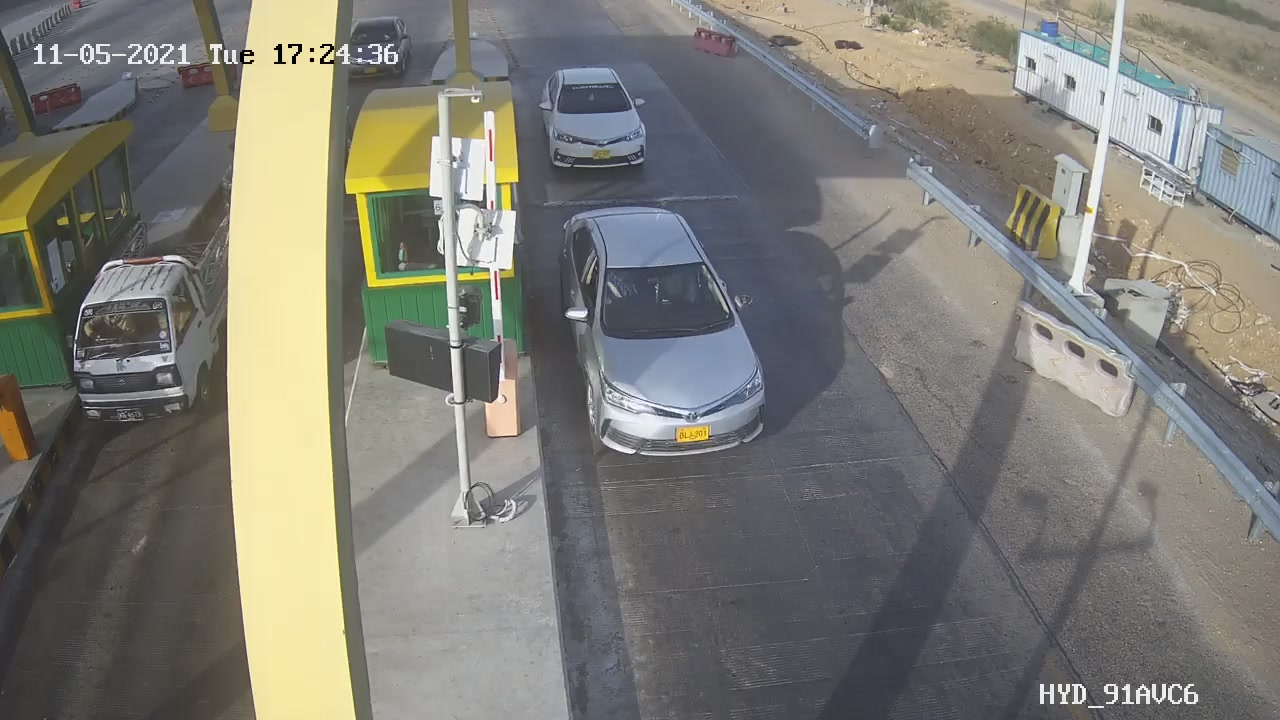F1: (539, 192, 787, 482), (524, 55, 669, 186)
